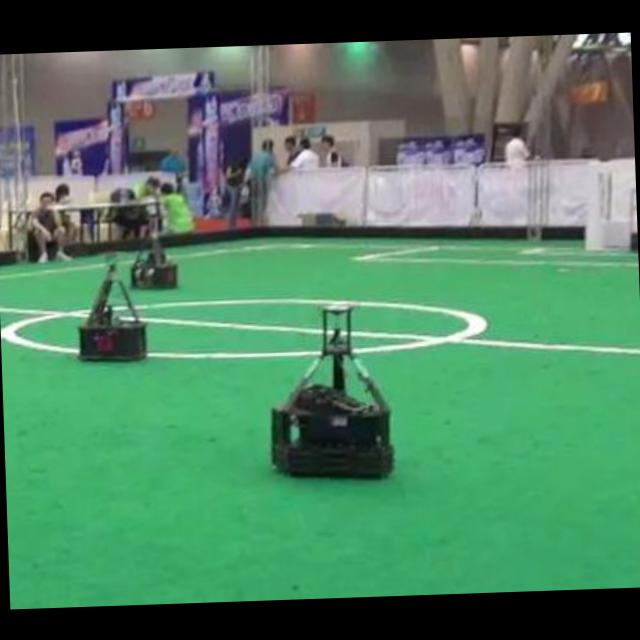goal: (585, 160, 600, 248)
robot: (271, 304, 391, 475), (78, 263, 144, 358), (131, 206, 177, 286)
